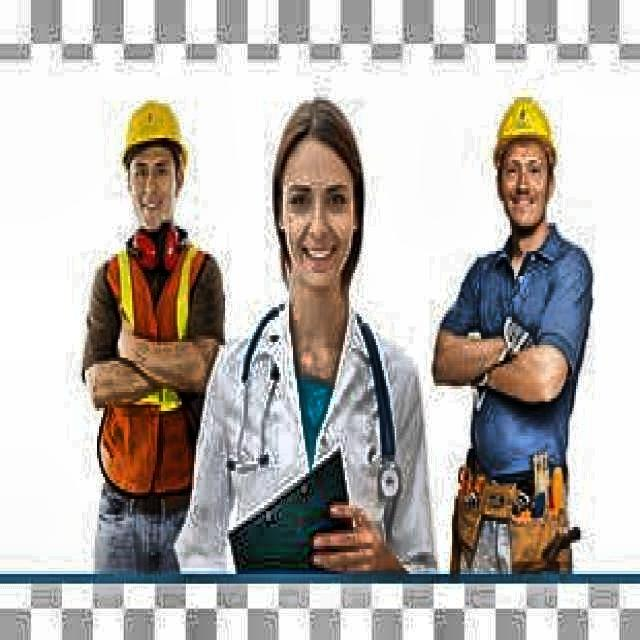person: (232, 86, 418, 560), (84, 81, 243, 568), (450, 94, 603, 559)
